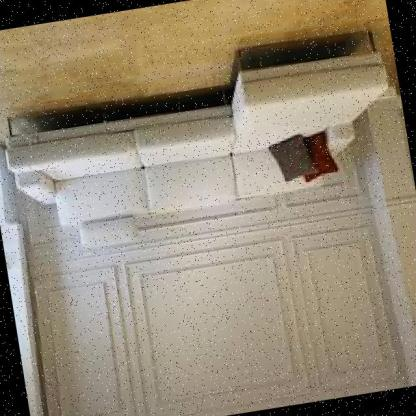Sofa: (0, 3, 416, 265)
